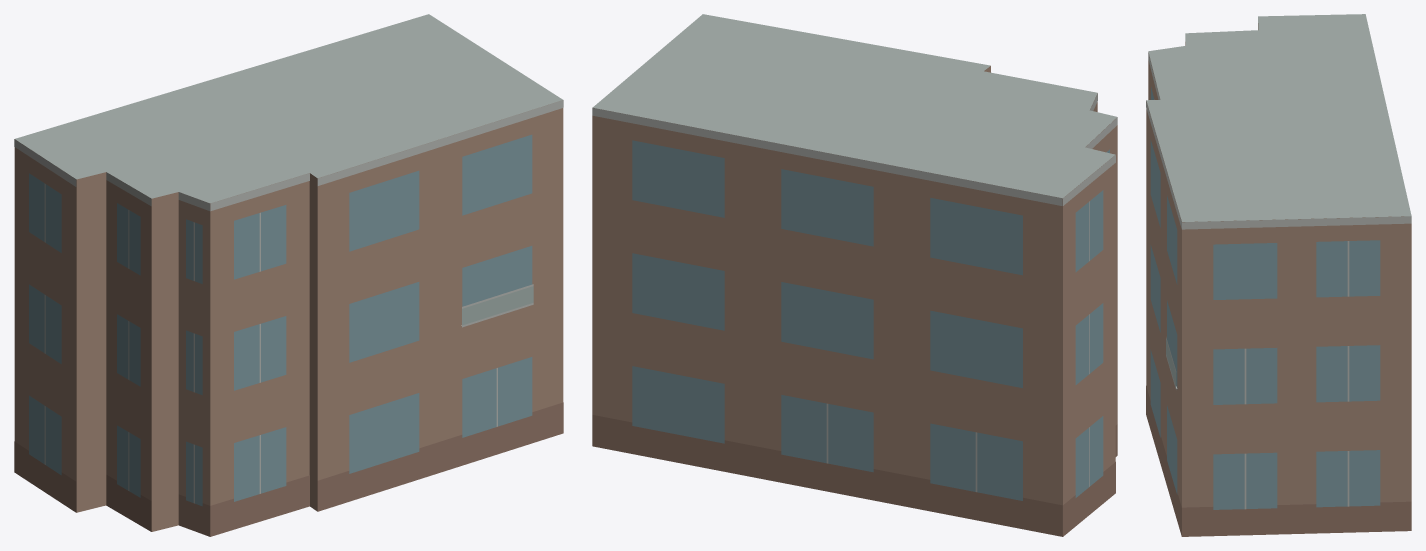
Rendered from survey-upis-32641714.glb.
The picture shows the model from 3 angles, left to right: view 1: azimuth 30°, elevation 25°; view 2: azimuth 150°, elevation 25°; view 3: azimuth 270°, elevation 25°; orthographic projection. The views are drawn at different scales.
Parts seen in each view (by area): view 1: survey-upis-32641714.tmp; view 2: survey-upis-32641714.tmp; view 3: survey-upis-32641714.tmp.
Boxes of the visible parts, box(x1,y1,x2,y2) form: survey-upis-32641714.tmp: box(14, 14, 563, 536); survey-upis-32641714.tmp: box(592, 14, 1117, 536); survey-upis-32641714.tmp: box(1146, 14, 1411, 536).
Size of the model in its own units: 14.61 by 10.3 by 7.88.
